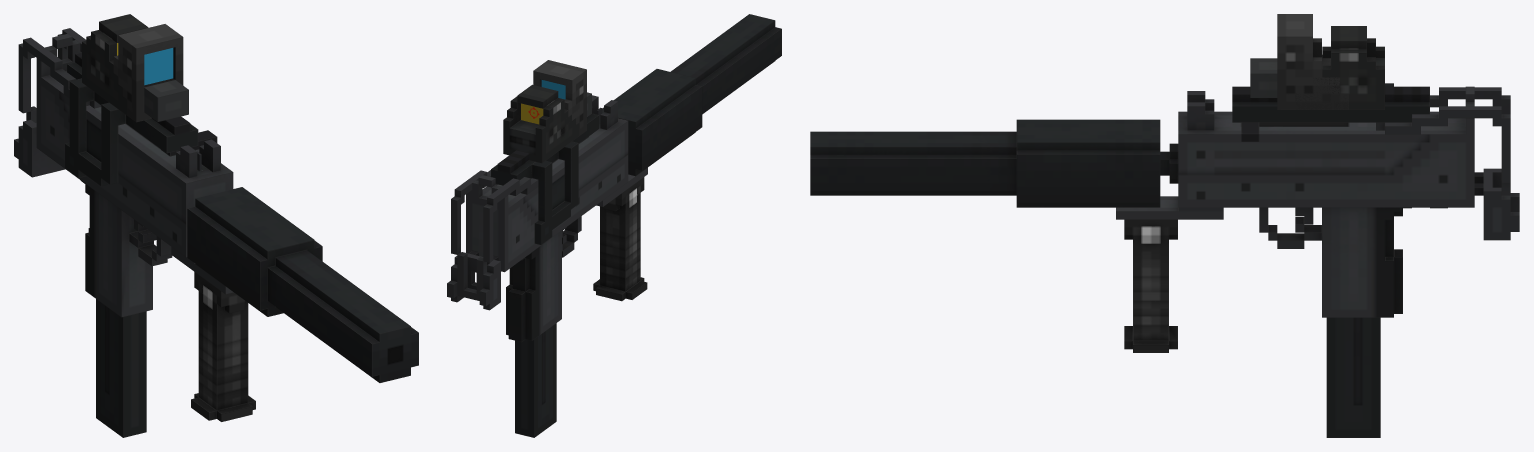
Rendered from RD_MAC10_GOLD.glb.
3 views of the same model, side by side, from view 1: azimuth 30°, elevation 25°; view 2: azimuth 150°, elevation 25°; view 3: azimuth 270°, elevation 25° (orthographic). The views are drawn at different scales.
Parts seen in each view (by area): view 1: MAC10, MAC10_SILENCER, GRIP1, MAC10_PLANK (×2), MAC10_CLIP, SCOPE_EOTECH, SCOPE_HOLOSUN, MAC10_BUTT_STOCK_P2, MAC10_BUTT_STOCK_P1, MAC10_BODY_GRIP; view 2: MAC10, MAC10_SILENCER, MAC10_PLANK (×2), GRIP1, SCOPE_EOTECH, MAC10_CLIP, MAC10_BUTT_STOCK_P2, SCOPE_HOLOSUN, MAC10_BUTT_STOCK_P1, MAC10_BODY_GRIP; view 3: MAC10, MAC10_SILENCER, MAC10_CLIP, GRIP1, SCOPE_EOTECH, SCOPE_HOLOSUN, MAC10_PLANK (×2), MAC10_BUTT_STOCK_P2, MAC10_BUTT_STOCK_P1, MAC10_BODY_GRIP.
Boxes of the visible parts, x1,y1,x2,y2 form: MAC10: [36, 33, 233, 317]; MAC10_SILENCER: [187, 187, 418, 382]; GRIP1: [191, 272, 255, 421]; MAC10_PLANK (×2): [65, 52, 198, 186]; MAC10_CLIP: [96, 299, 146, 437]; SCOPE_EOTECH: [82, 14, 188, 121]; SCOPE_HOLOSUN: [113, 24, 183, 122]; MAC10_BUTT_STOCK_P2: [18, 28, 101, 122]; MAC10_BUTT_STOCK_P1: [14, 120, 65, 177]; MAC10_BODY_GRIP: [171, 247, 233, 294]; MAC10: [466, 95, 628, 342]; MAC10_SILENCER: [602, 14, 781, 176]; MAC10_PLANK (×2): [491, 106, 599, 244]; GRIP1: [593, 177, 647, 301]; SCOPE_EOTECH: [503, 84, 591, 163]; MAC10_CLIP: [515, 323, 556, 437]; MAC10_BUTT_STOCK_P2: [451, 170, 538, 300]; SCOPE_HOLOSUN: [533, 60, 586, 135]; MAC10_BUTT_STOCK_P1: [447, 251, 500, 310]; MAC10_BODY_GRIP: [596, 167, 647, 206]; MAC10: [1160, 86, 1474, 317]; MAC10_SILENCER: [810, 119, 1160, 207]; MAC10_CLIP: [1326, 317, 1380, 437]; GRIP1: [1124, 219, 1177, 352]; SCOPE_EOTECH: [1250, 26, 1384, 109]; SCOPE_HOLOSUN: [1277, 14, 1348, 109]; MAC10_PLANK (×2): [1232, 83, 1429, 122]; MAC10_BUTT_STOCK_P2: [1376, 87, 1510, 195]; MAC10_BUTT_STOCK_P1: [1474, 168, 1519, 240]; MAC10_BODY_GRIP: [1116, 196, 1223, 219].
Bounding box in the file's own units: 0.0886 × 0.492 × 0.7774.
6 materials, 6 textured.
